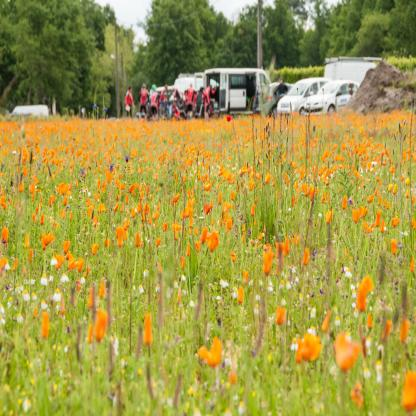Car: (278, 76, 331, 115), (306, 78, 360, 114)
